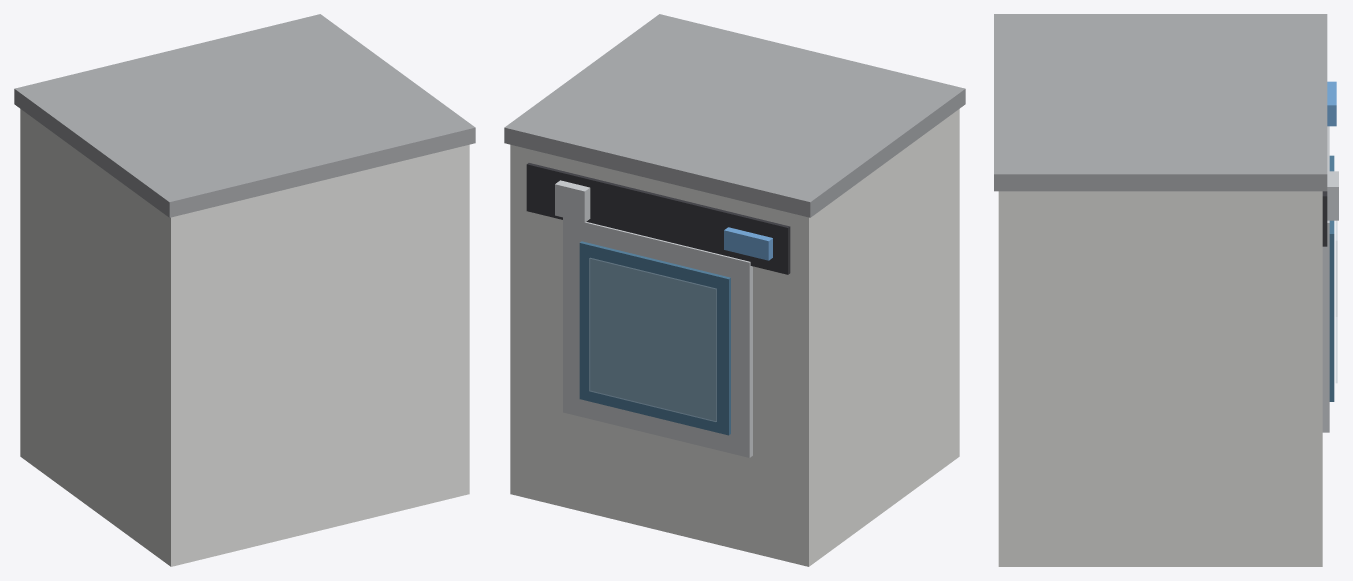
The model's file is washing_machine.glb.
The picture shows the model from 3 angles, left to right: view 1: azimuth 30°, elevation 25°; view 2: azimuth 150°, elevation 25°; view 3: azimuth 270°, elevation 25°; orthographic projection. The views are drawn at different scales.
Visible parts, largest first — view 1: washing_machine; view 2: washing_machine; view 3: washing_machine.
Boxes of the visible parts, x1=… form: washing_machine: x1=14, y1=14, x2=475, y2=566; washing_machine: x1=504, y1=14, x2=965, y2=566; washing_machine: x1=994, y1=14, x2=1338, y2=566.
Size of the model in its own units: 0.82 by 0.94 by 0.745.
